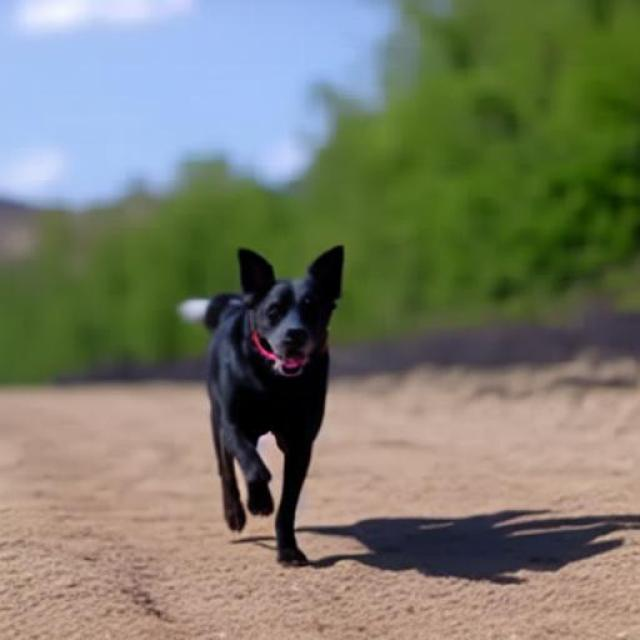Dog: (177, 243, 345, 567)
